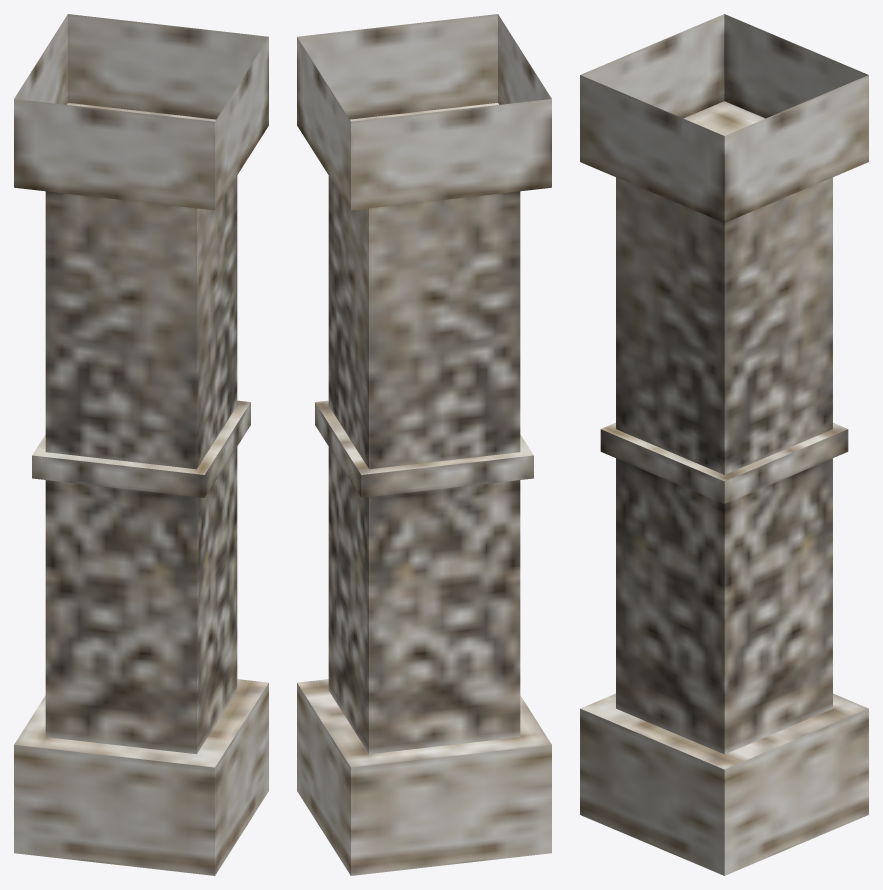
Rendered from Pillar02.obj.
3 views of the same model, side by side, from view 1: azimuth 30°, elevation 25°; view 2: azimuth 150°, elevation 25°; view 3: azimuth 270°, elevation 25° (orthographic).
Visible parts, largest first — view 1: Pillar02; view 2: Pillar02; view 3: Pillar02.
Boxes of the visible parts, bbox=[...] form: Pillar02: bbox=[14, 14, 268, 875]; Pillar02: bbox=[297, 14, 551, 875]; Pillar02: bbox=[580, 14, 868, 875].
Size of the model in its own units: 1.41 by 4 by 1.41.
